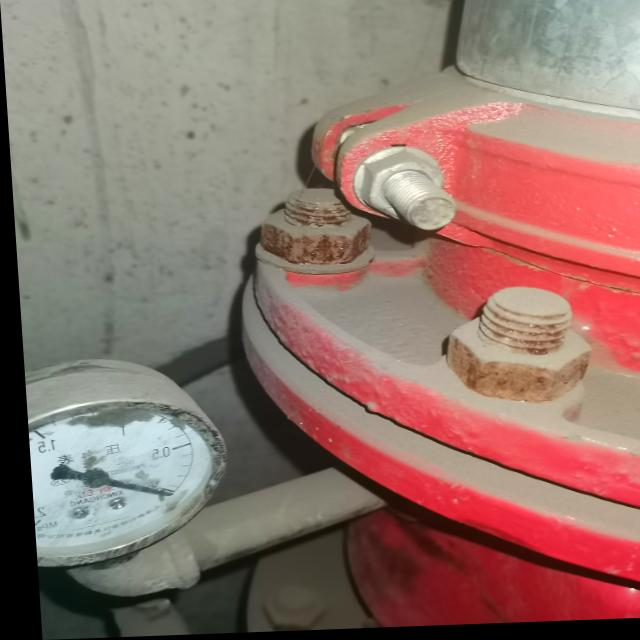Regular bolt: (354, 158, 450, 224)
Rusty bolt: (439, 290, 584, 403), (251, 191, 364, 271)
